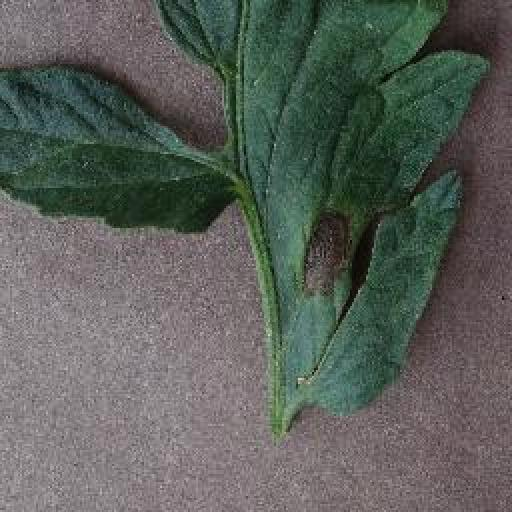disease_tomato: (155, 0, 491, 412)
